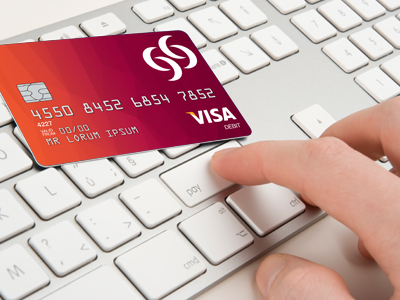tarjeta: (1, 29, 254, 168)
